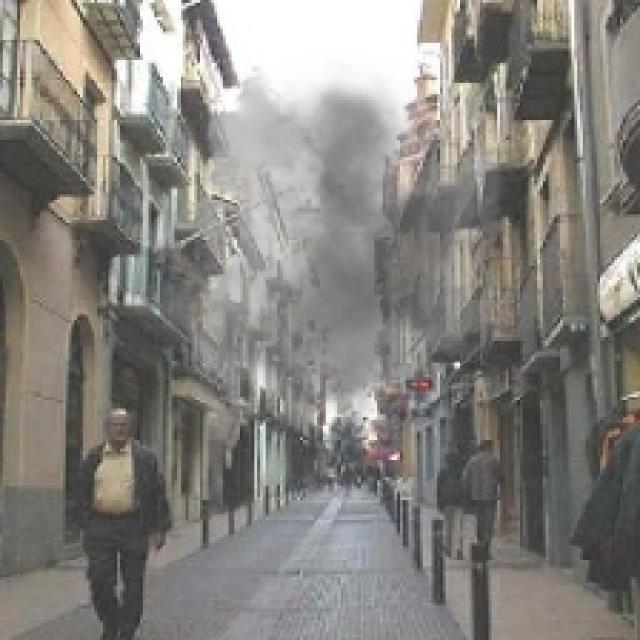smoke: (126, 51, 523, 446)
